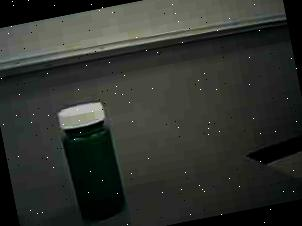Bottle C: (40, 87, 149, 226)
